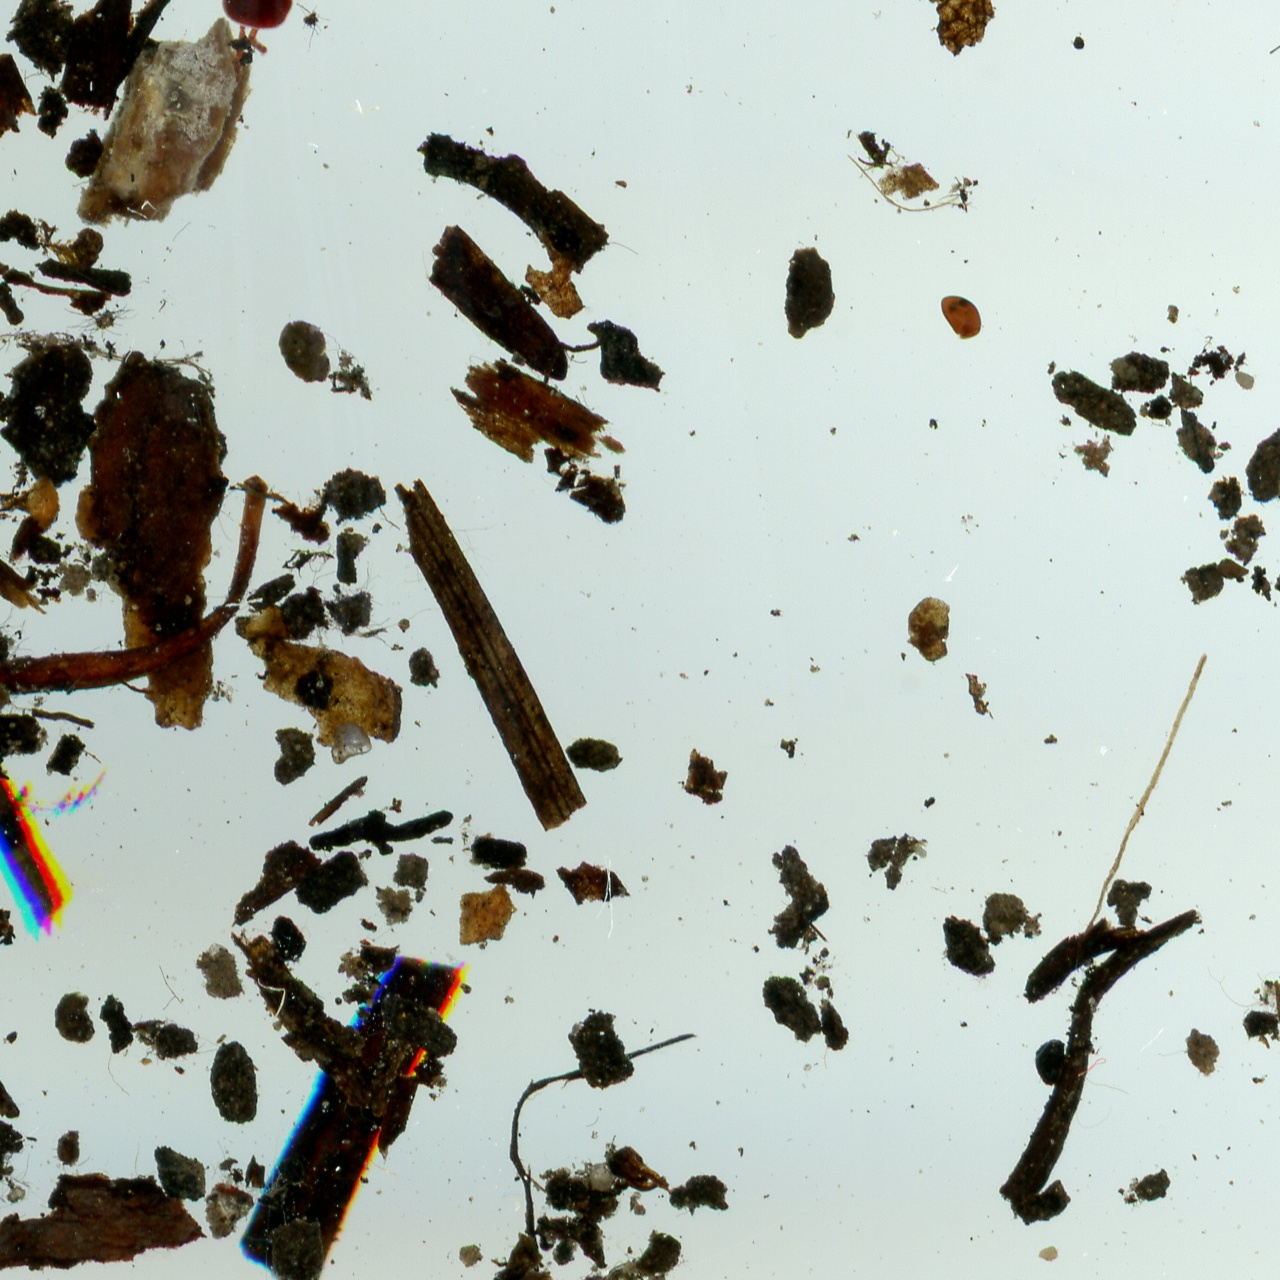arthropod: (217, 0, 297, 63), (937, 294, 984, 341)
